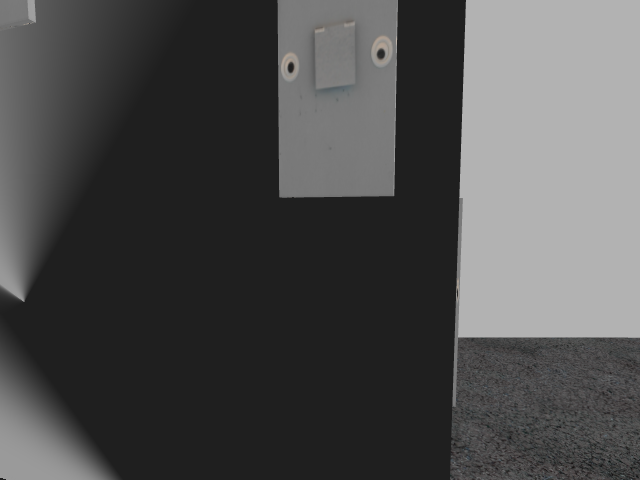facade: (279, 22, 392, 94)
